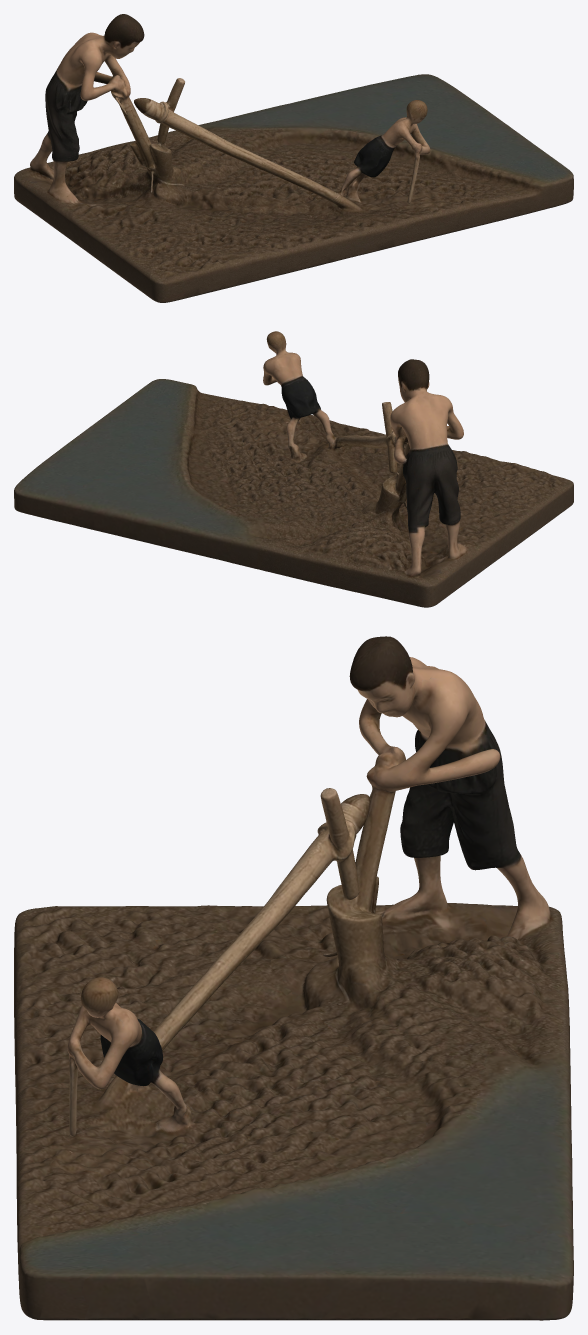
The model's file is kinh_te_lac_hau.glb.
3 renders of one model, top to bottom at view 1: azimuth 30°, elevation 25°; view 2: azimuth 150°, elevation 25°; view 3: azimuth 270°, elevation 25°, orthographic. The views are drawn at different scales.
Size of the model in its own units: 1.9 by 0.8638 by 1.19.
1 material, 1 textured.
